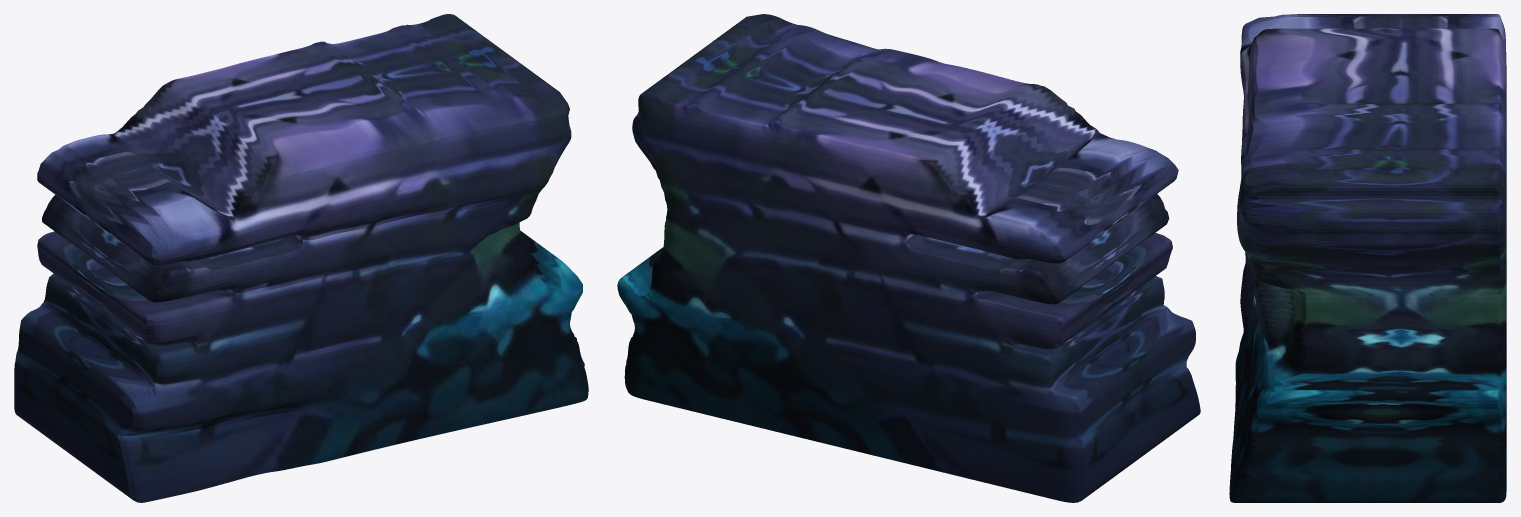
The model's file is stone_stairs.glb.
The picture shows the model from 3 angles, left to right: view 1: azimuth 30°, elevation 25°; view 2: azimuth 150°, elevation 25°; view 3: azimuth 270°, elevation 25°; orthographic projection. The views are drawn at different scales.
Visible parts, largest first — view 1: geometry_0; view 2: geometry_0; view 3: geometry_0.
Part boxes in pixels (x1,y1,x2,y2): geometry_0: (14,14,588,502); geometry_0: (617,14,1200,502); geometry_0: (1229,14,1506,502).
Bounding box in the file's own units: 4.42 × 2.76 × 2.15.
1 material, 1 textured.
